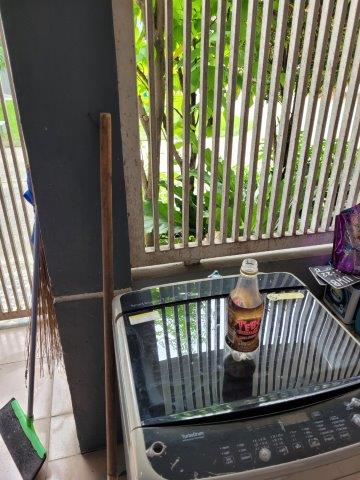botolplastik: (224, 257, 265, 362)
